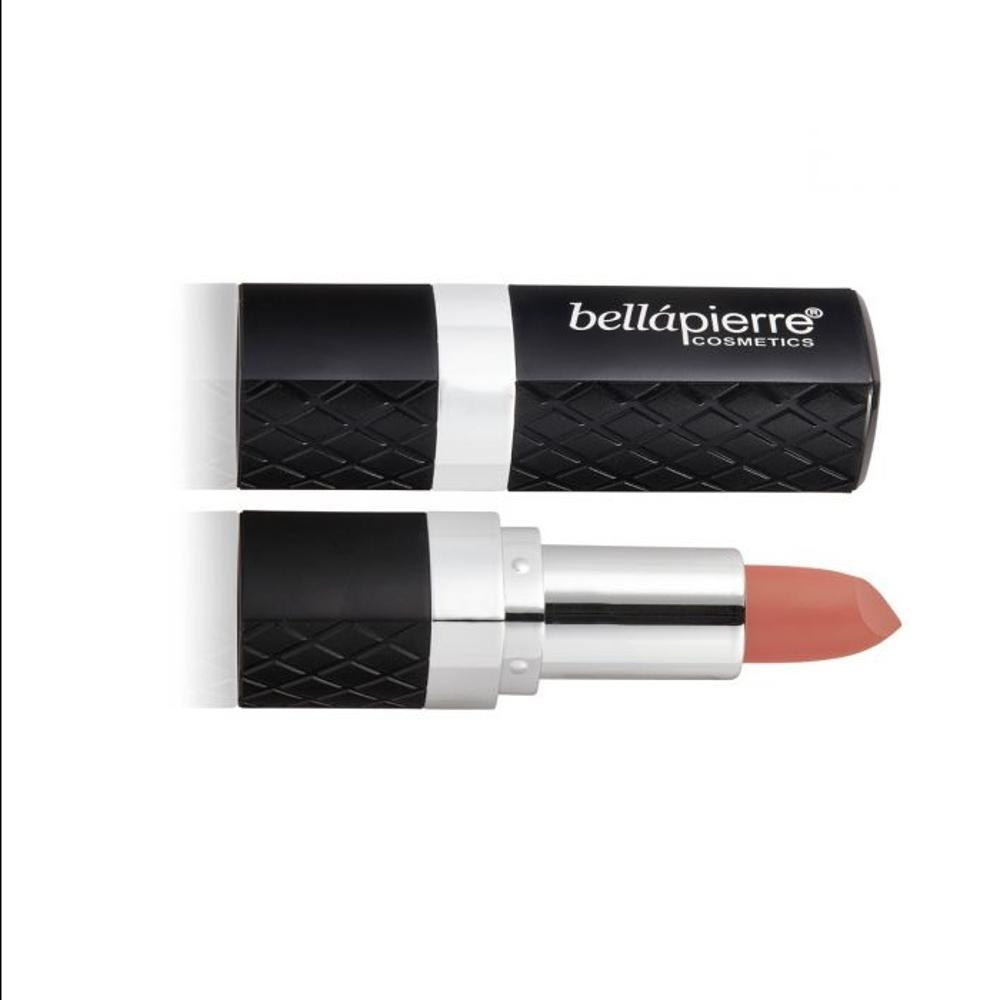lipstick: (214, 461, 914, 766)
